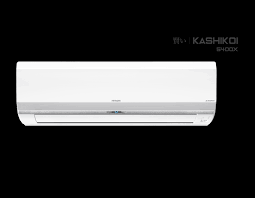ac: (14, 59, 219, 129)
